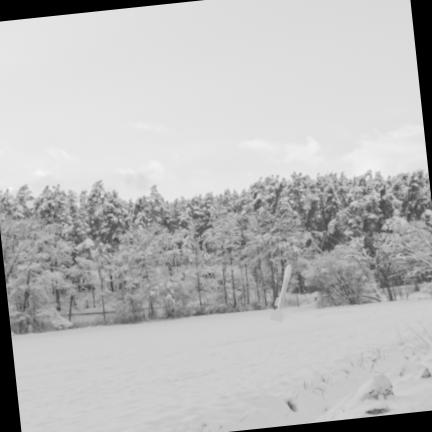Shahed: (271, 265, 291, 321)
